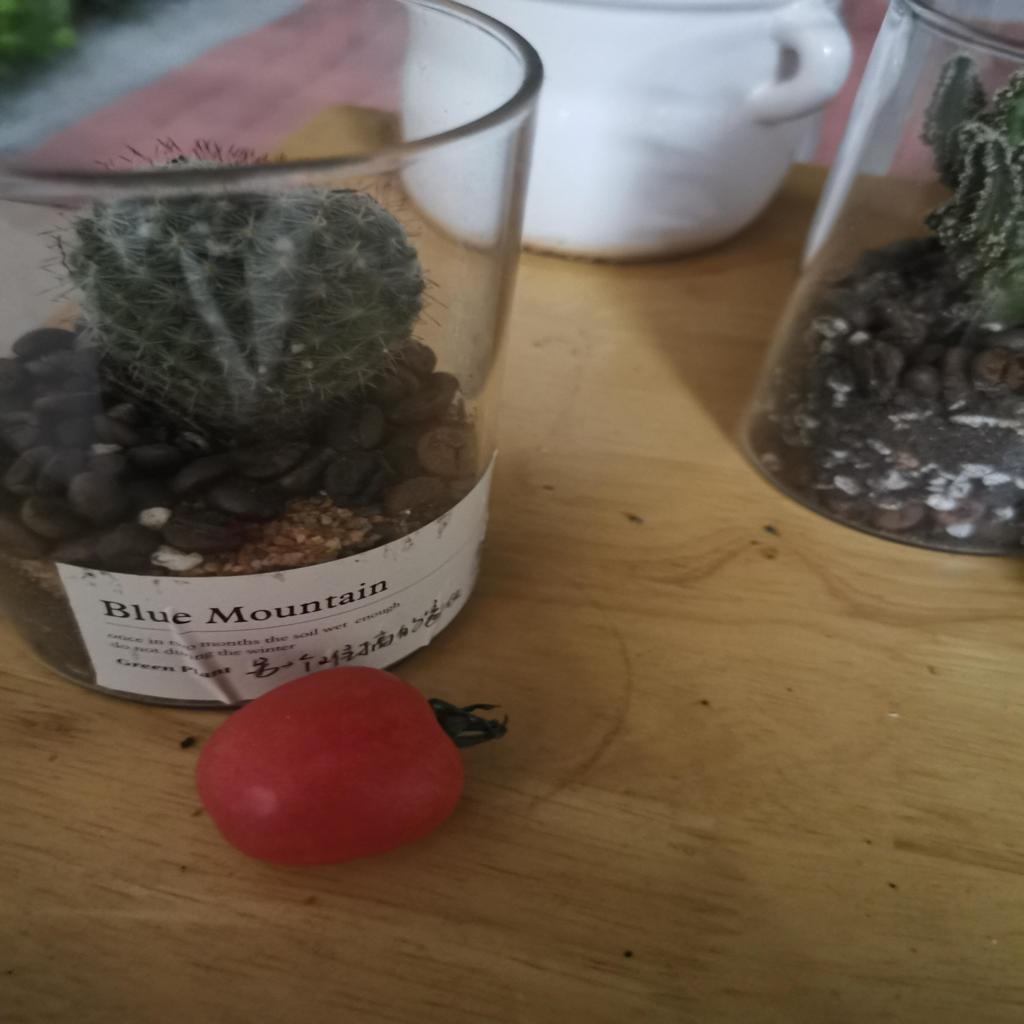tomato: (192, 682, 468, 858)
